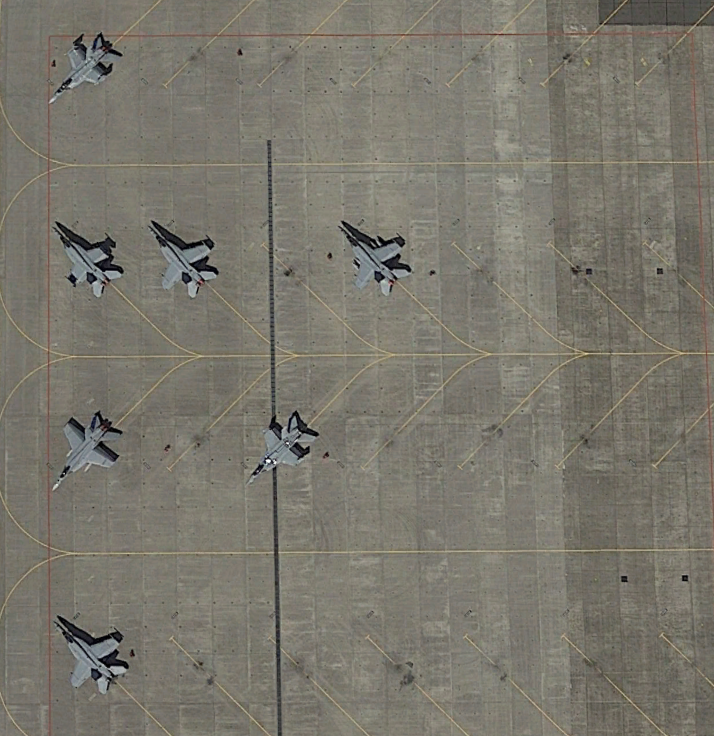A16: (141, 218, 226, 302), (333, 218, 418, 302), (43, 408, 128, 492), (239, 406, 324, 490), (49, 613, 134, 697), (47, 221, 127, 300), (45, 33, 125, 103)
